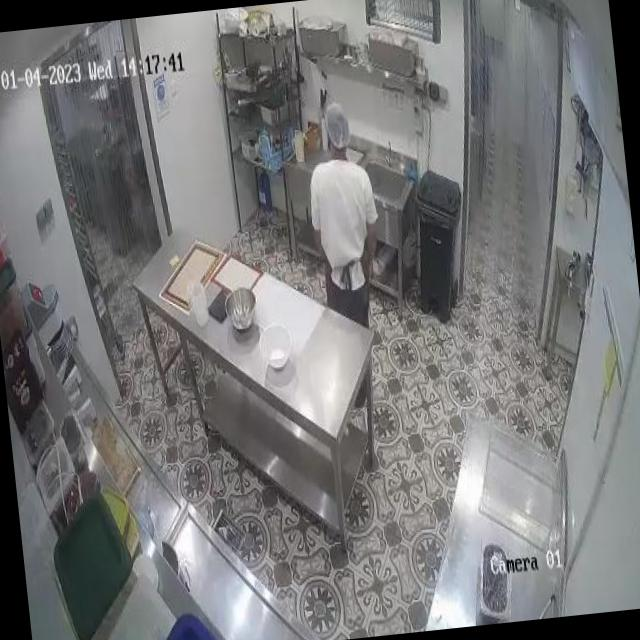hairnet: (324, 104, 350, 146)
